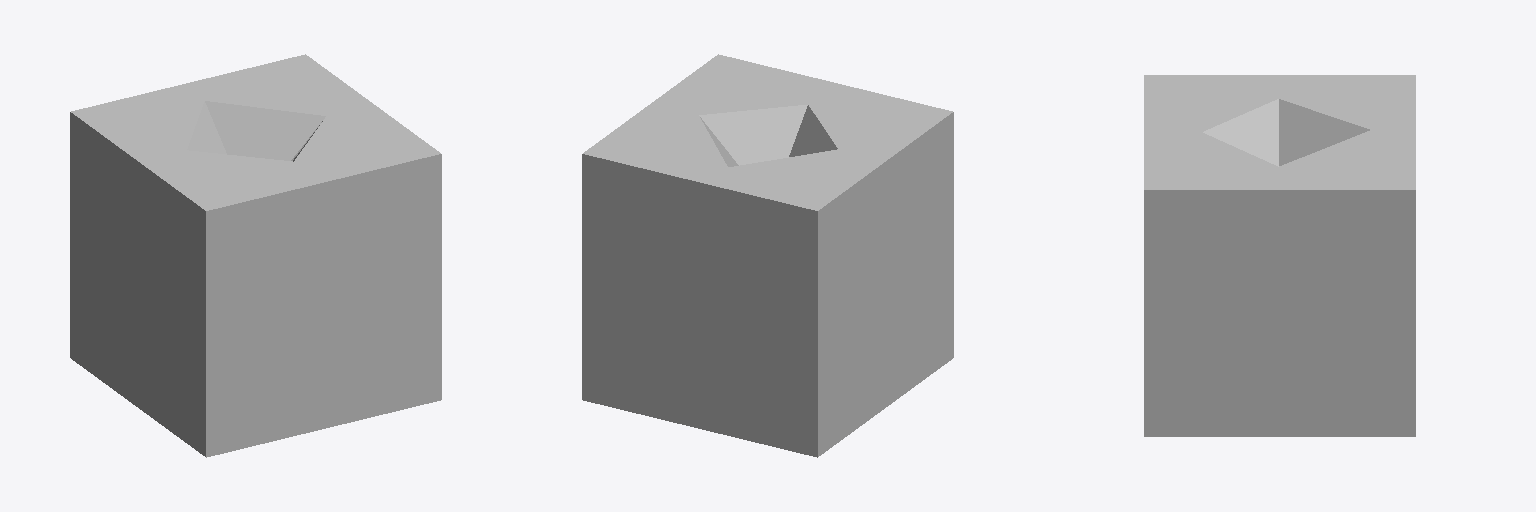
The model's file is Pentagon_cube_bottle_preprocessed_convex.obj.
The picture shows the model from 3 angles: view 1: azimuth 30°, elevation 25°; view 2: azimuth 150°, elevation 25°; view 3: azimuth 270°, elevation 25°; orthographic projection.
Visible parts, largest first — view 1: convex_2, convex_3, convex_0, convex_1; view 2: convex_0, convex_1, convex_2, convex_3; view 3: convex_1, convex_3, convex_0, convex_2.
Boxes of the visible parts, box(x1,y1,x2,y2) form: convex_2: box(139, 150, 322, 457); convex_3: box(293, 105, 441, 428); convex_0: box(70, 85, 226, 407); convex_1: box(182, 54, 373, 160); convex_0: box(706, 149, 885, 457); convex_1: box(582, 104, 738, 429); convex_2: box(789, 83, 953, 406); convex_3: box(651, 54, 836, 165); convex_1: box(1279, 130, 1415, 436); convex_3: box(1144, 132, 1278, 436); convex_0: box(1279, 75, 1415, 165); convex_2: box(1144, 75, 1278, 166).
Size of the model in its own units: 0.0808 by 0.0808 by 0.0808.